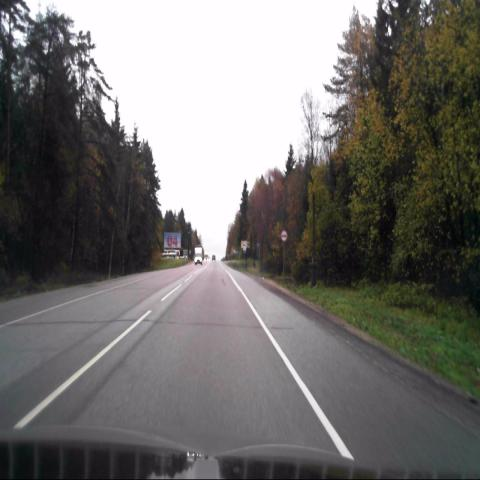3_20: (280, 229, 288, 241)
